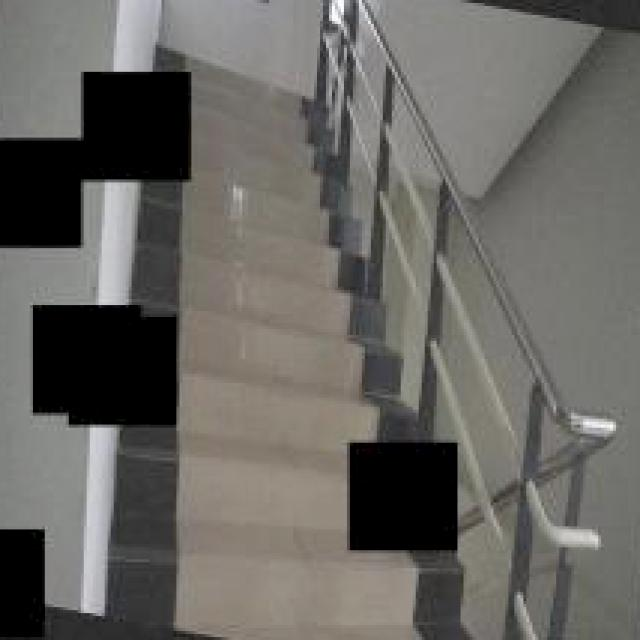upstair: (195, 64, 411, 429)
